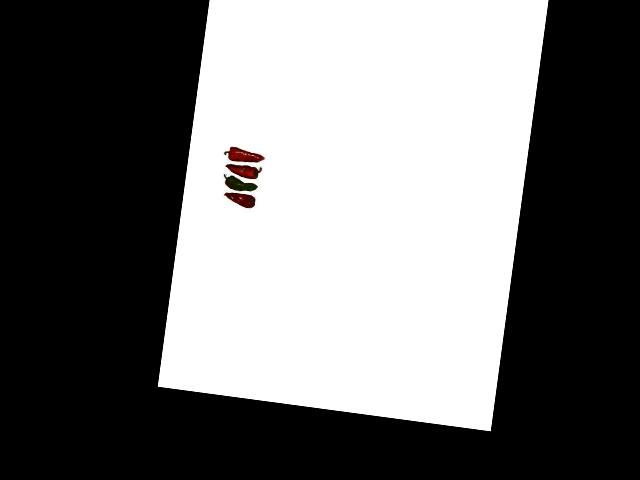bell_pepper: (219, 189, 257, 212)
